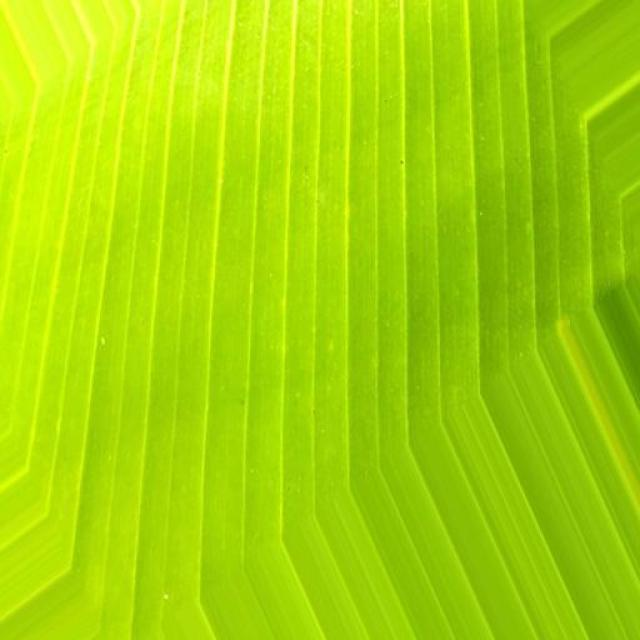Black_leaf_spot: (0, 3, 537, 541)
